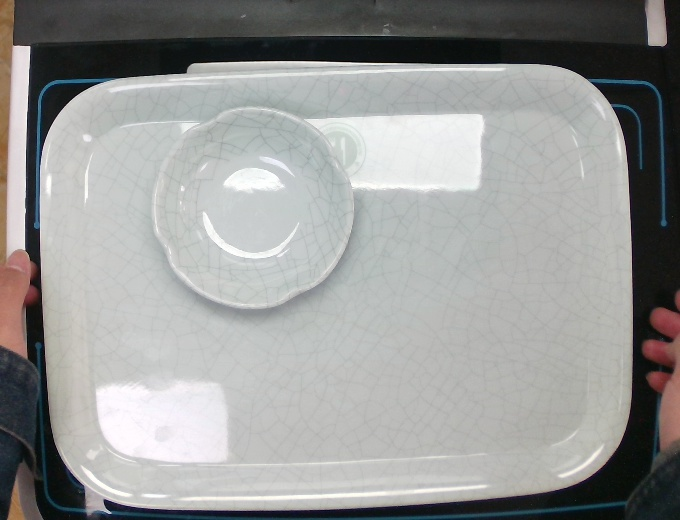JYsf-Ao_Yuan_Wan: (147, 102, 359, 316)
